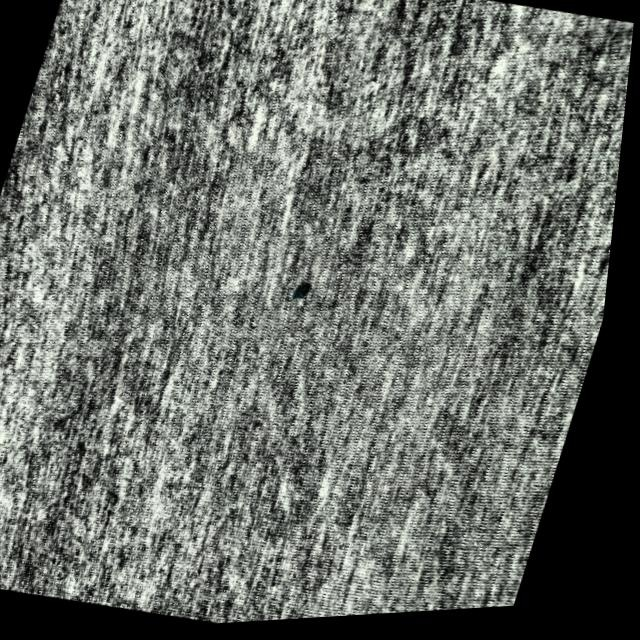Hole: (275, 268, 330, 320)
